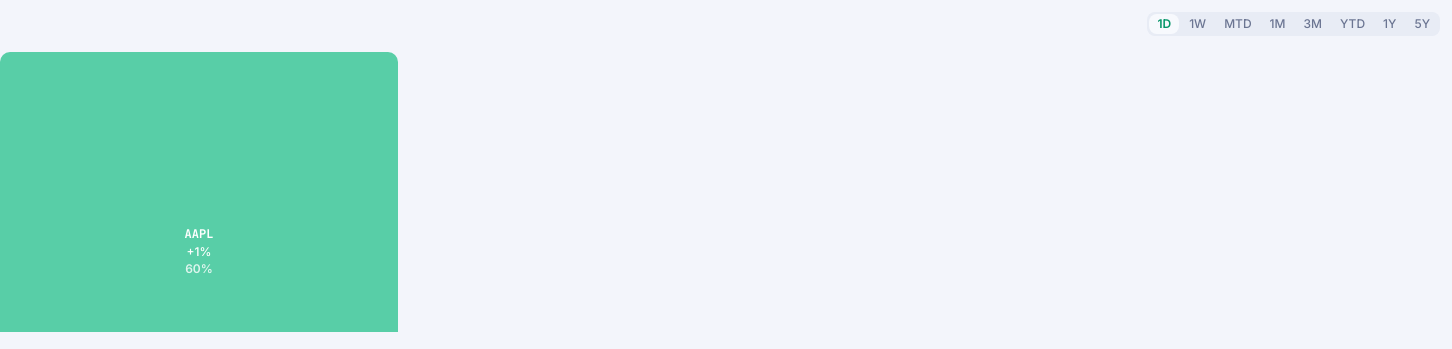
Heatmap period change › shows the loading label over the old treemap while the next period loads, so the card does not resize
Check: the text "Loading heatmap…" is not shown
Click the button "1W".
click(1198, 24)  # box [1181, 14, 1214, 34]
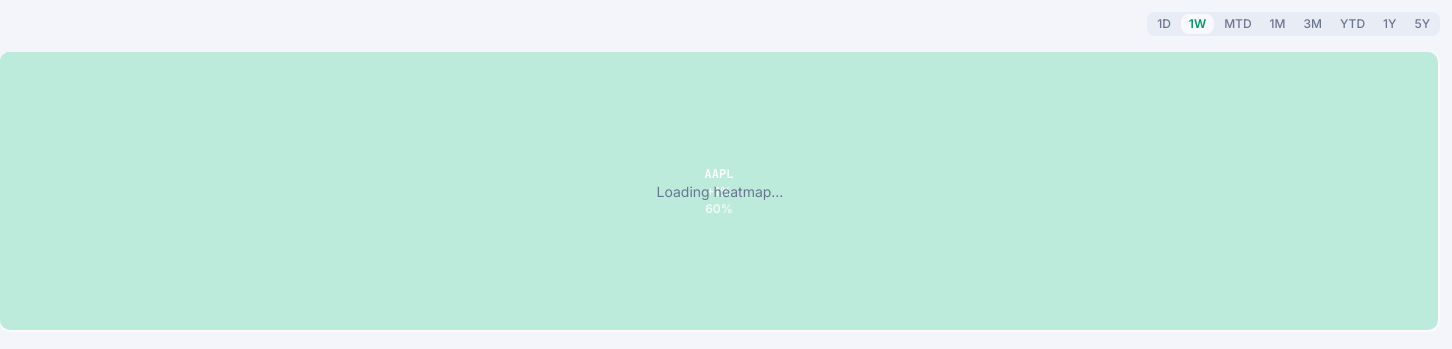
Check: the text "Loading heatmap…" is shown, box [656, 182, 783, 202]
